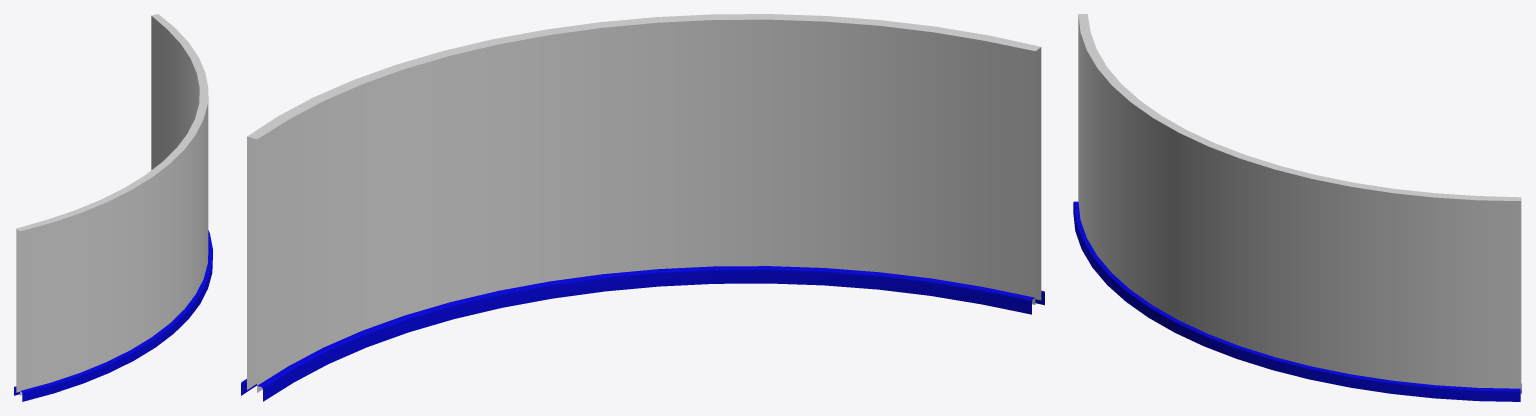
Rendered from CurvedWallLarge.fbx.
The picture shows the model from 3 angles, left to right: view 1: azimuth 30°, elevation 25°; view 2: azimuth 150°, elevation 25°; view 3: azimuth 270°, elevation 25°; orthographic projection. The views are drawn at different scales.
Visible parts, largest first — view 1: Wall, Trim; view 2: Wall, Trim; view 3: Wall, Trim.
Part boxes in pixels (x1=…): Wall: x1=16, y1=14, x2=208, y2=395; Trim: x1=14, y1=230, x2=212, y2=401; Wall: x1=247, y1=14, x2=1041, y2=392; Trim: x1=241, y1=266, x2=1044, y2=401; Wall: x1=1078, y1=14, x2=1521, y2=393; Trim: x1=1073, y1=201, x2=1521, y2=401.
Size of the model in its own units: 24.54 by 12 by 24.56.
